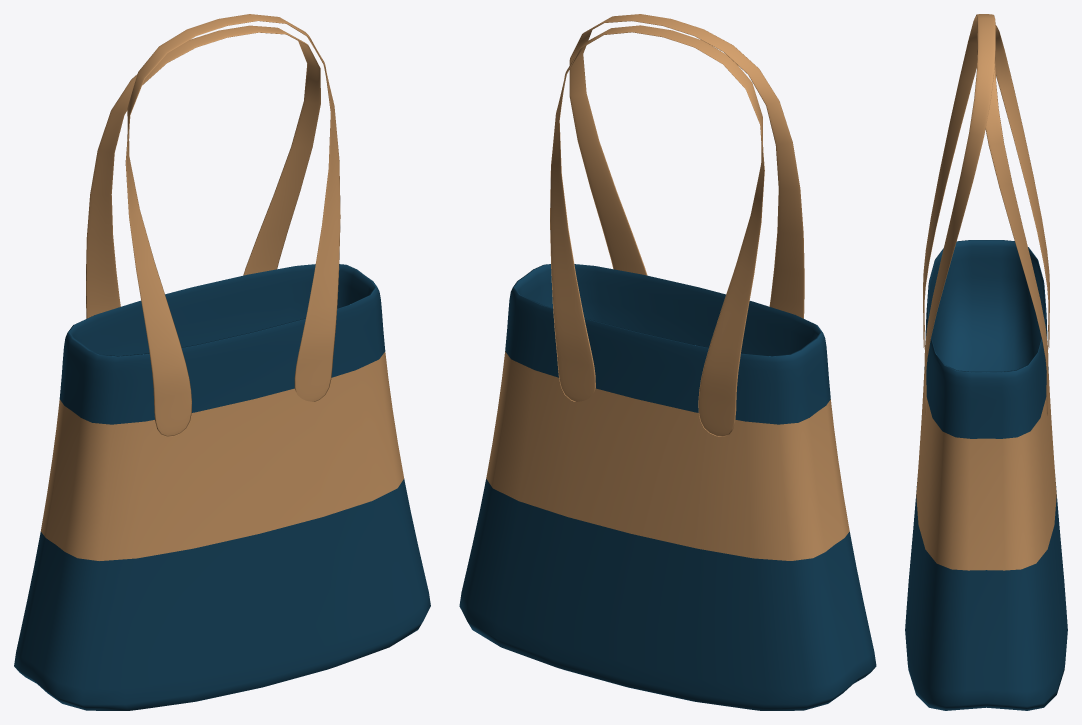
The picture shows the model from 3 angles, left to right: view 1: azimuth 30°, elevation 25°; view 2: azimuth 150°, elevation 25°; view 3: azimuth 270°, elevation 25°; orthographic projection. The views are drawn at different scales.
Visible parts, largest first — view 1: hand_bag; view 2: hand_bag; view 3: hand_bag.
Boxes of the visible parts, <box> form: hand_bag: <box>14,14,430,710</box>; hand_bag: <box>459,14,876,710</box>; hand_bag: <box>905,14,1067,710</box>.
Bounding box in the file's own units: 0.683 × 1.09 × 0.2629.
